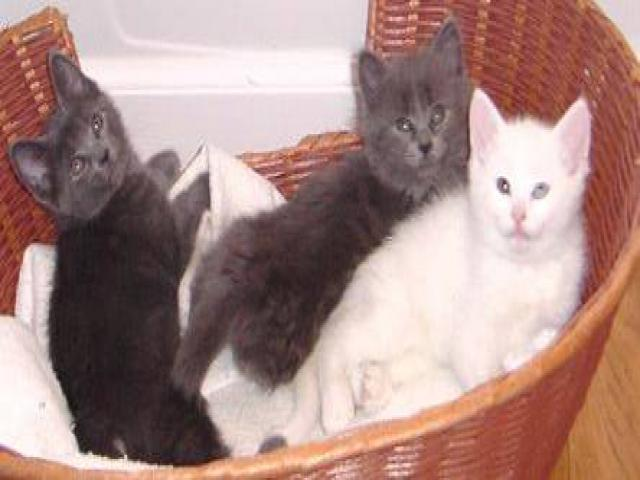cat: (170, 22, 503, 433), (307, 54, 598, 423), (15, 47, 223, 471)
